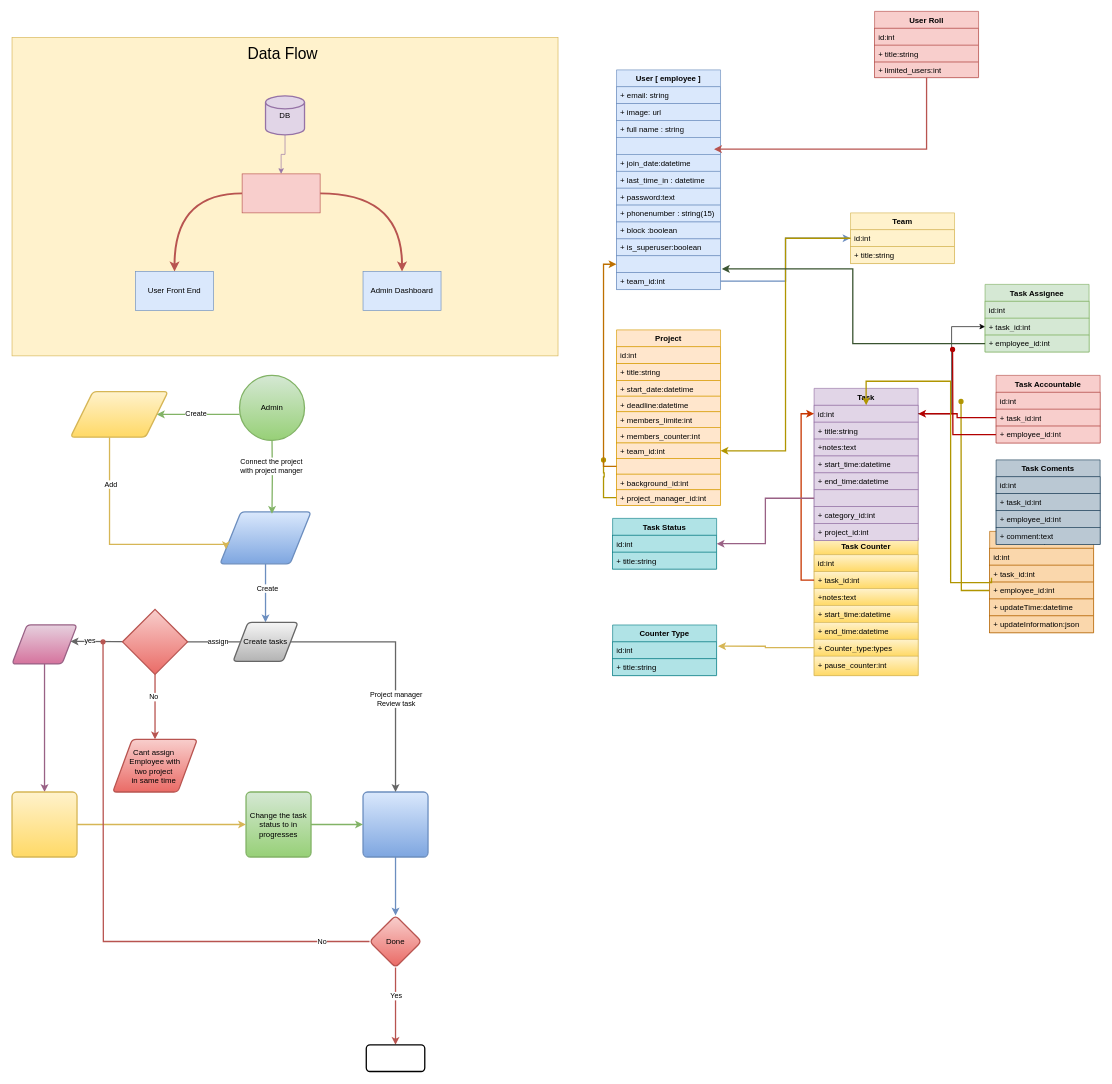
Some shapes in this 1112 by 1084 pixel diagram are drawn without their labels. The shapes that lost their labels are listed below. From the top down, each one's centre as x and y in pixels, then its label:
the point at 668,145: + roll_id:int
the point at 280,193: API
the point at 668,264: + id:int
the point at 119,414: Create user with roll project manager
the point at 668,466: + team_leader_id:int
the point at 865,498: + status_id:int
the point at 265,537: Create project
the point at 44,644: Assign to employee
the point at 155,641: employee inside project
the point at 44,824: employee Start counter on the task
the point at 395,824: Wait for Review
the point at 395,1058: change status Done
